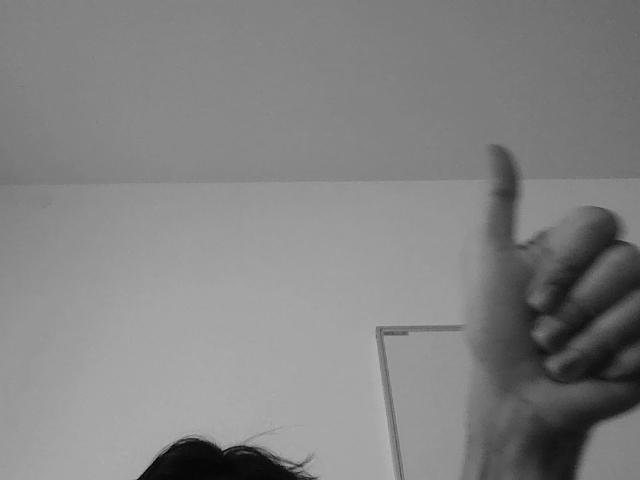good: (460, 130, 640, 432)
